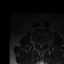CCS_normal: (40, 41, 42, 50)
LFS_stenosis: (43, 41, 45, 46)
LLS_normal: (42, 41, 43, 46)
RFS_stenosis: (36, 41, 38, 46)
RLS_stenosis: (38, 41, 40, 46)
